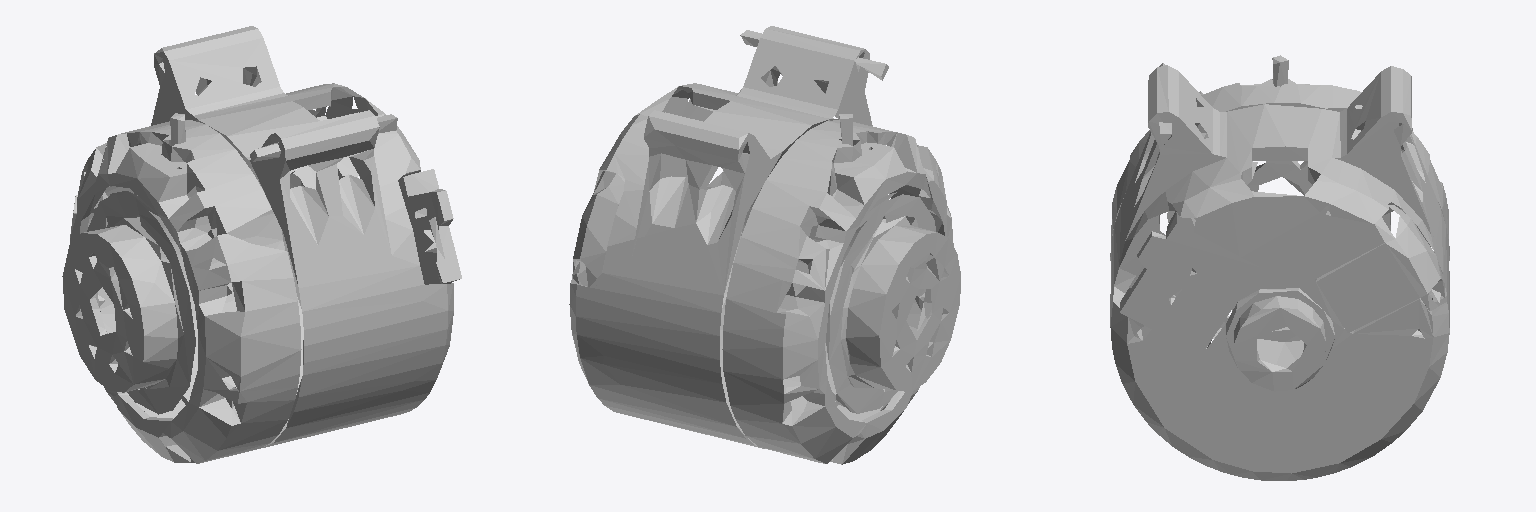
File: sim_ecub_r_shoulder_1.obj
3 views of the same model, side by side, from view 1: azimuth 30°, elevation 25°; view 2: azimuth 150°, elevation 25°; view 3: azimuth 270°, elevation 25° (orthographic).
Bounding box in the file's own units: 64.41 × 69.81 × 62.08.